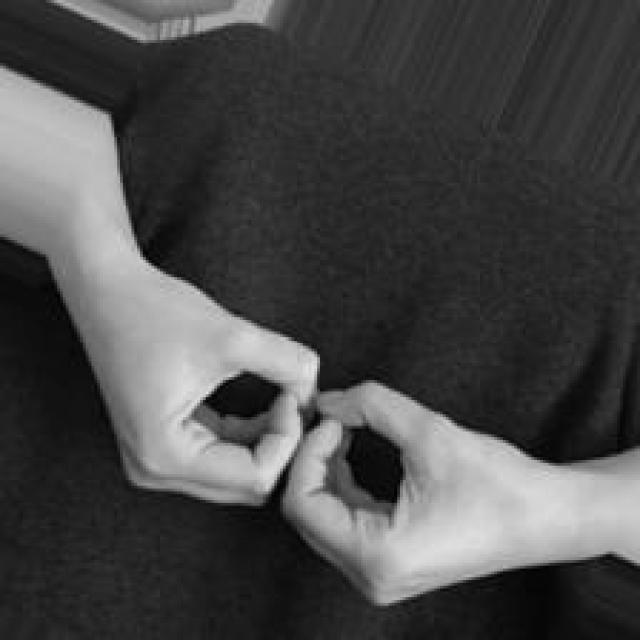B: (97, 266, 480, 613)
